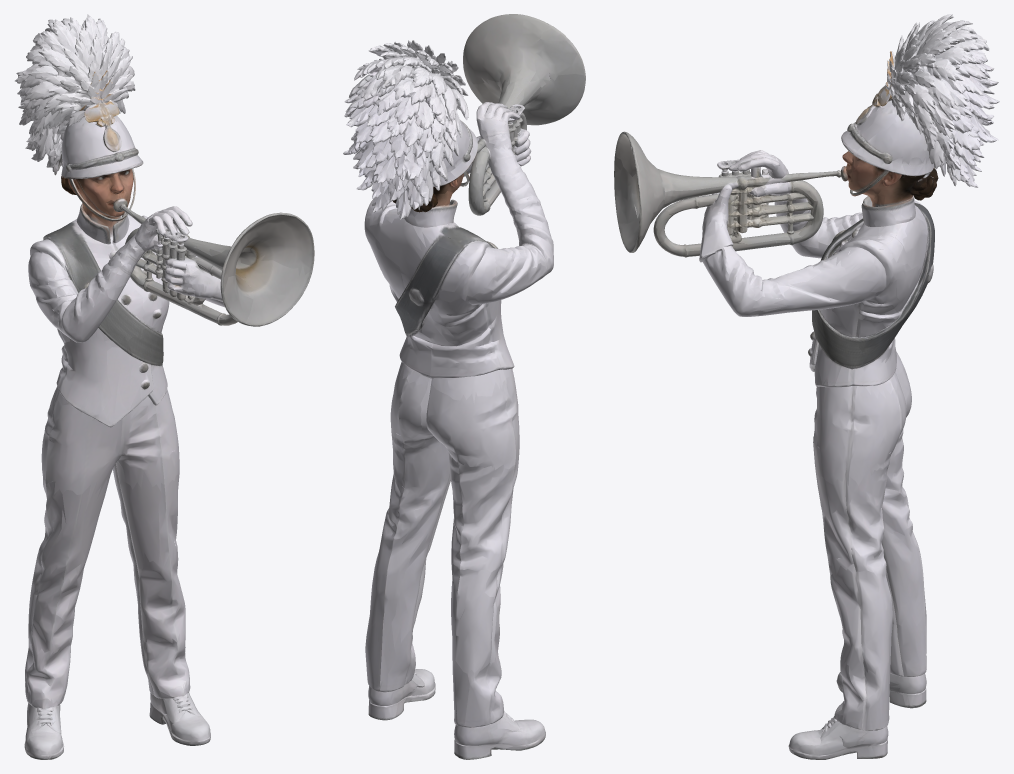
The model's file is posed-baritone-woman.glb.
3 views of the same model, side by side, from view 1: azimuth 30°, elevation 25°; view 2: azimuth 150°, elevation 25°; view 3: azimuth 270°, elevation 25° (orthographic). The views are drawn at different scales.
Parts seen in each view (by area): view 1: output_unwrapped; view 2: output_unwrapped; view 3: output_unwrapped.
Part boxes in pixels (left/top/right/bottom): output_unwrapped: left=15, top=14, right=314, bottom=759; output_unwrapped: left=343, top=14, right=585, bottom=759; output_unwrapped: left=614, top=14, right=999, bottom=759.
Bounding box in the file's own units: 0.5417 × 1.9 × 0.9438.
Materials: 1 (1 with a texture image).
